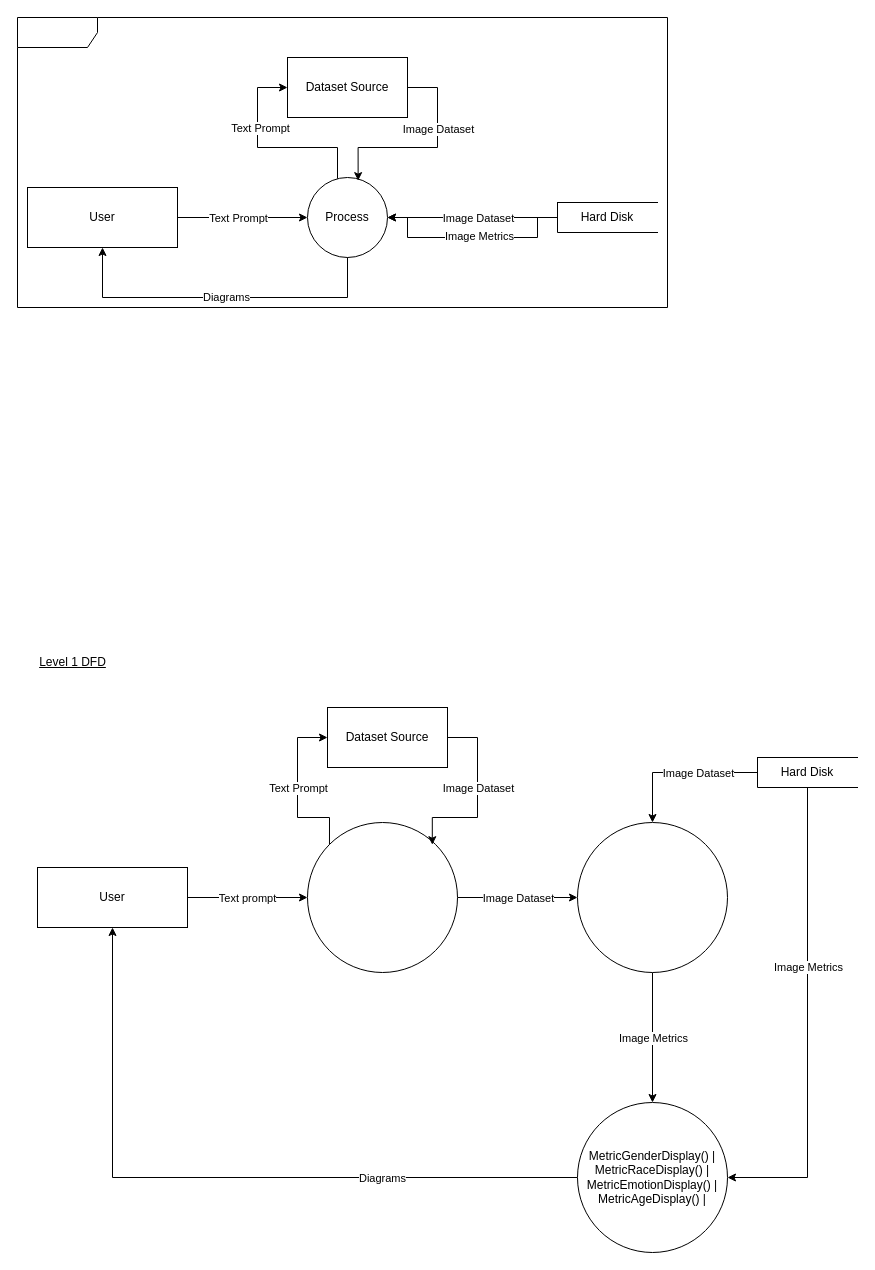
This 875x1270 diagram has some shape labels left out. Each missing label, with the box of its shape:
DeepFaceProcess(): (576, 822, 728, 972)
Level 0 DFD: (16, 16, 668, 308)
RetrieveImagesLAION(): (306, 822, 458, 972)
